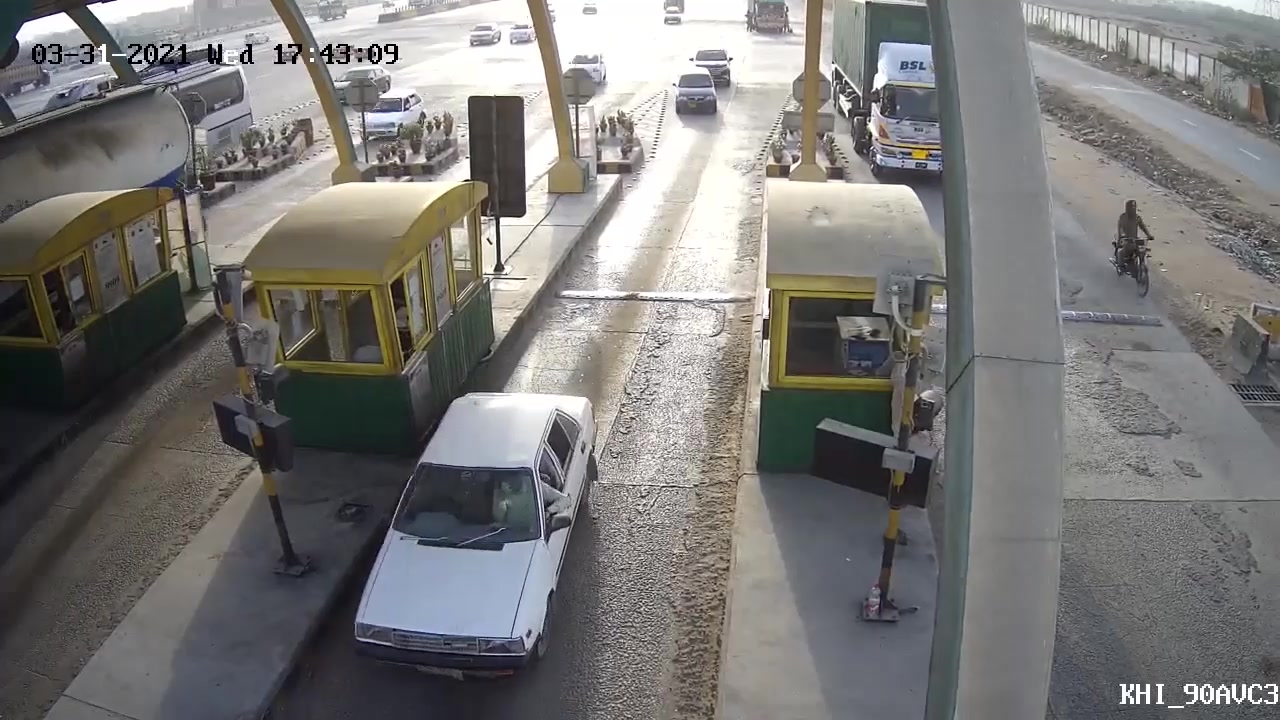F1: (331, 379, 605, 683)
